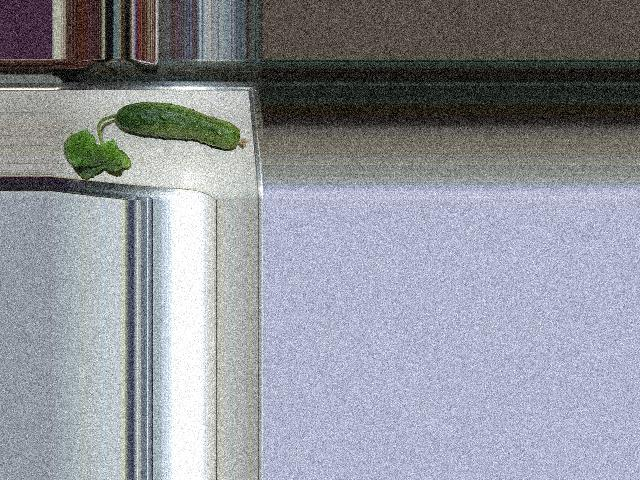cucumber: (113, 102, 247, 150)
